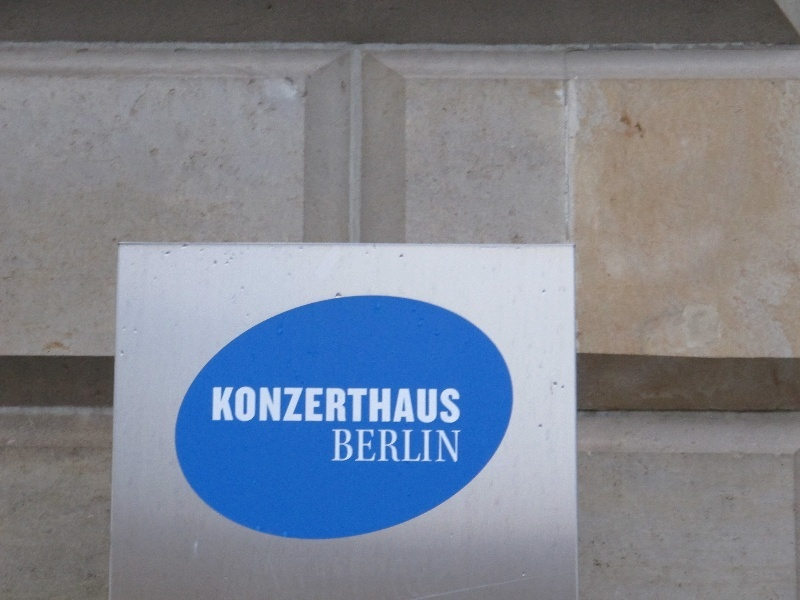text: (225, 386, 240, 424), (241, 386, 256, 424), (257, 386, 272, 424), (273, 386, 288, 424), (289, 386, 304, 424), (305, 386, 320, 424), (321, 386, 336, 424), (337, 386, 352, 424), (353, 386, 368, 424), (369, 386, 384, 424), (385, 386, 400, 424), (401, 386, 416, 424), (417, 386, 432, 424), (433, 386, 448, 424), (337, 429, 352, 464), (353, 429, 368, 464), (369, 429, 384, 464), (385, 429, 400, 464), (401, 429, 416, 464), (417, 429, 432, 464), (433, 429, 448, 464), (449, 386, 461, 424), (449, 429, 461, 464), (213, 386, 224, 424), (332, 429, 336, 464)
